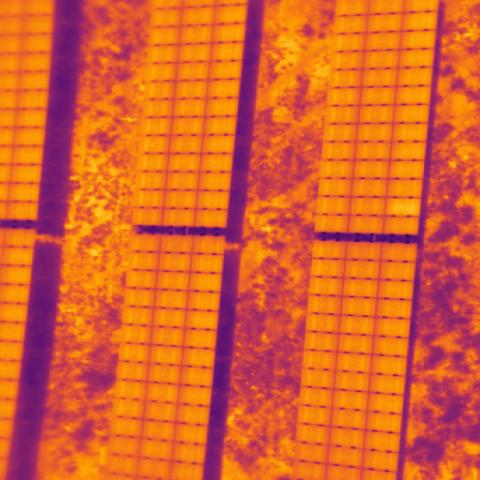fault: (388, 197, 422, 217)
